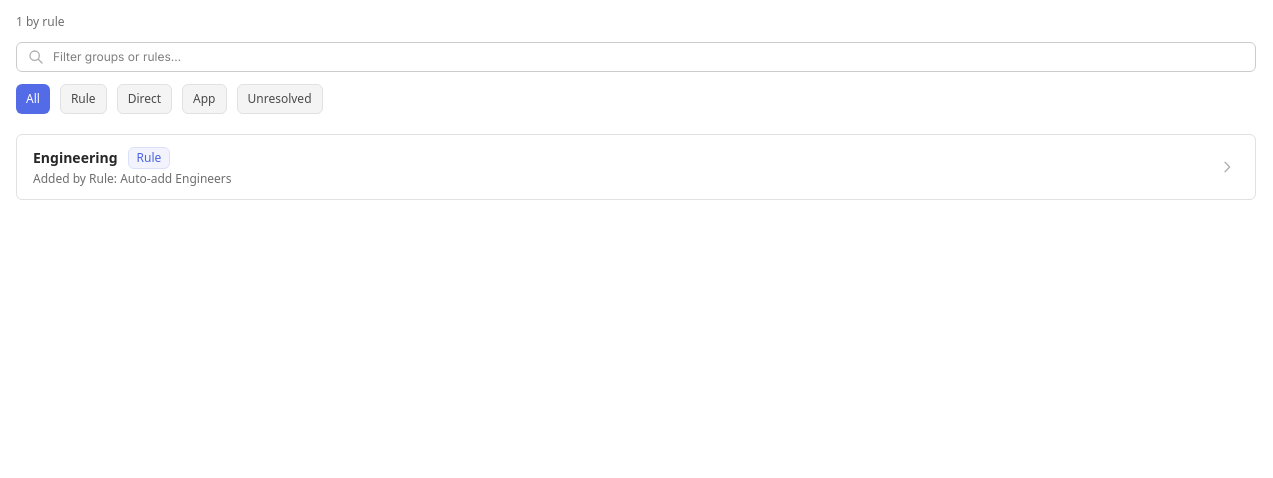
Test: GroupMembershipsList › says a rule carries no condition instead of implying it matches nothing
The width and height of the screenshot is (1273, 478).
Click the button named "Show how Engineering was granted": (1227, 167) [1215,155,1239,179]
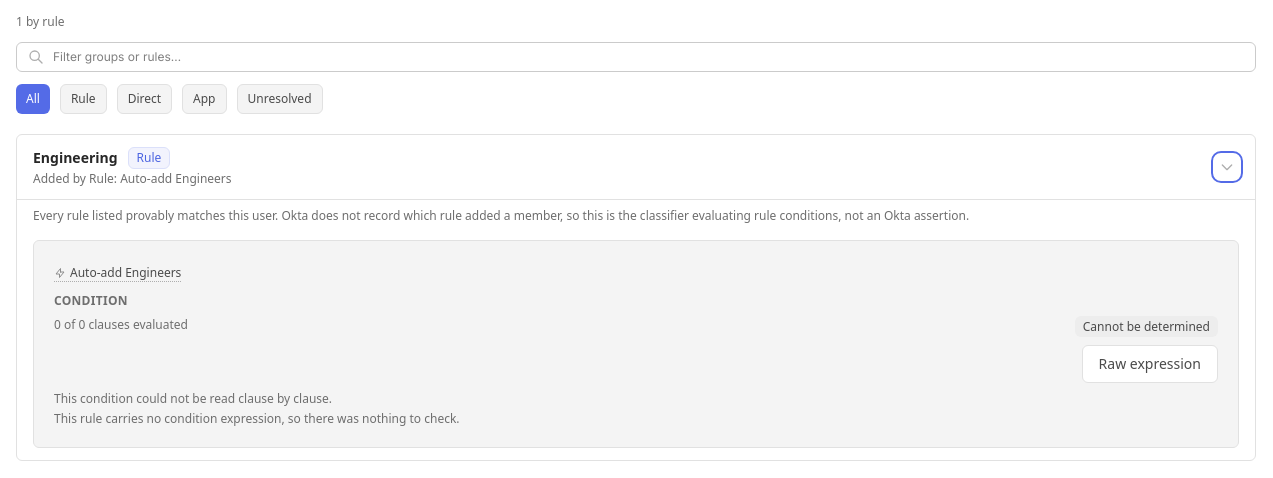
Check: the text "carries no condition expression" is shown, box [54,410,460,427]
